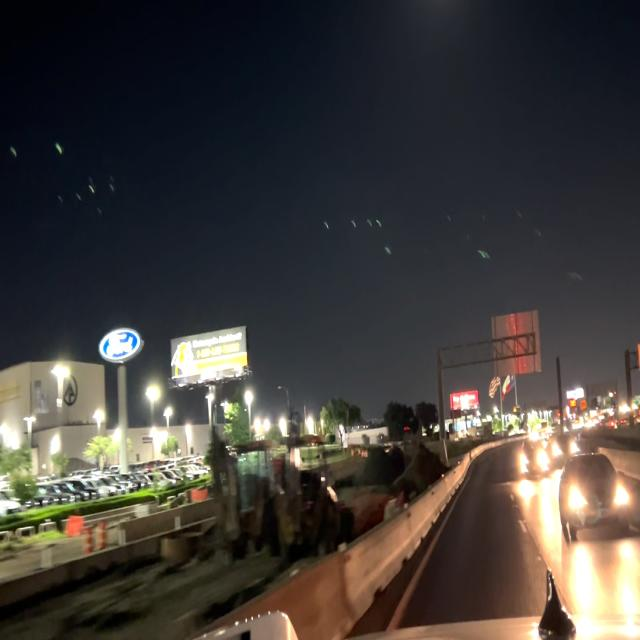back-of-sign: (489, 306, 544, 381)
